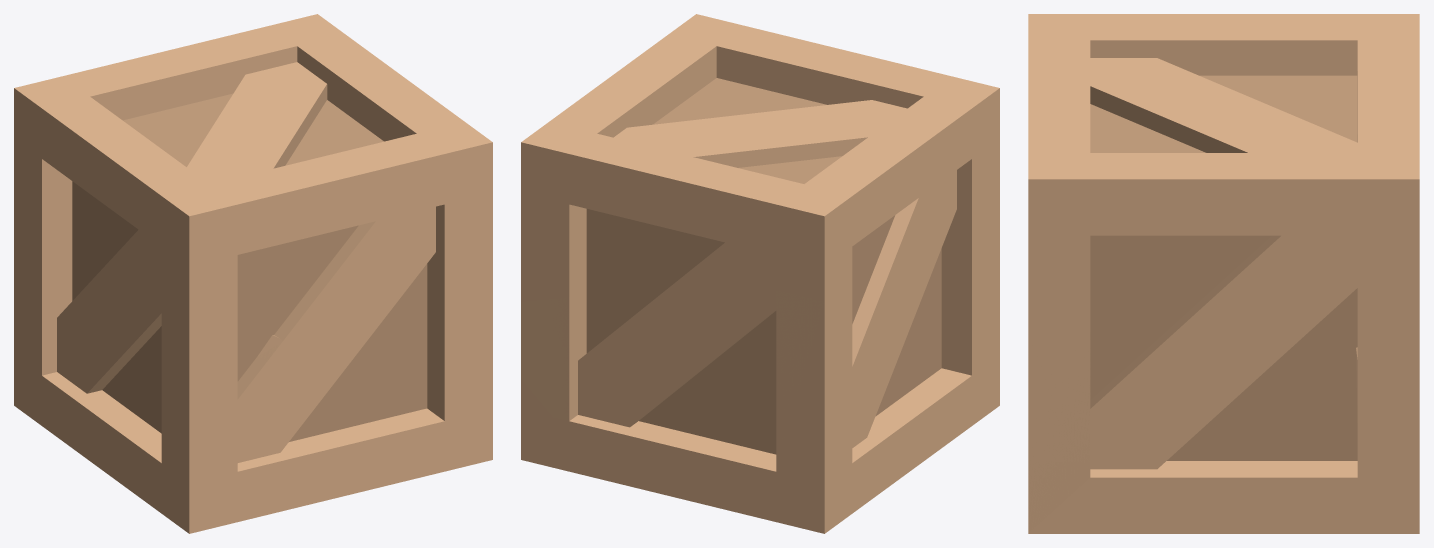
File: fracturedBoxOri.fbx
The picture shows the model from 3 angles, left to right: view 1: azimuth 30°, elevation 25°; view 2: azimuth 150°, elevation 25°; view 3: azimuth 270°, elevation 25°; orthographic projection. The views are drawn at different scales.
Parts seen in each view (by area): view 1: crate, crate_cell.007, crate_cell.004, crate_cell.008, crate_cell.010, crate_cell.001, crate_cell.012, crate_cell, crate_cell.006, crate_cell.014; view 2: crate, crate_cell.008, crate_cell.003, crate_cell.004, crate_cell.001, crate_cell.007, crate_cell.010, crate_cell.009, crate_cell.006, crate_cell.005, crate_cell.002, crate_cell.014 (+1 smaller); view 3: crate, crate_cell.012, crate_cell.010, crate_cell.013, crate_cell.007, crate_cell.002, crate_cell.004, crate_cell.006, crate_cell.014, crate_cell.003.
Part boxes in pixels (<box>): crate: <box>14,14,492,533</box>; crate_cell.007: <box>273,104,492,354</box>; crate_cell.004: <box>75,132,279,352</box>; crate_cell.008: <box>14,173,117,421</box>; crate_cell.010: <box>239,48,439,140</box>; crate_cell.001: <box>75,333,263,532</box>; crate_cell.012: <box>352,297,477,484</box>; crate_cell: <box>240,335,386,514</box>; crate_cell.006: <box>96,40,252,148</box>; crate_cell.014: <box>213,14,363,89</box>; crate: <box>521,14,999,533</box>; crate_cell.008: <box>685,240,891,531</box>; crate_cell.003: <box>521,288,694,425</box>; crate_cell.004: <box>789,66,999,331</box>; crate_cell.001: <box>856,226,999,508</box>; crate_cell.007: <box>645,14,907,103</box>; crate_cell.010: <box>568,52,758,155</box>; crate_cell.009: <box>744,172,885,299</box>; crate_cell.006: <box>627,144,789,289</box>; crate_cell.005: <box>591,363,855,529</box>; crate_cell.002: <box>521,219,659,299</box>; crate_cell.014: <box>521,108,643,230</box>; crate: <box>1028,14,1419,533</box>; crate_cell.012: <box>1028,321,1225,533</box>; crate_cell.010: <box>1146,115,1353,355</box>; crate_cell.013: <box>1225,375,1357,477</box>; crate_cell.007: <box>1028,64,1204,330</box>; crate_cell.002: <box>1211,258,1419,377</box>; crate_cell.004: <box>1028,14,1282,112</box>; crate_cell.006: <box>1228,55,1419,142</box>; crate_cell.014: <box>1316,121,1419,264</box>; crate_cell.003: <box>1276,347,1419,442</box>.
Bounding box in the file's own units: 50 × 50 × 50.
